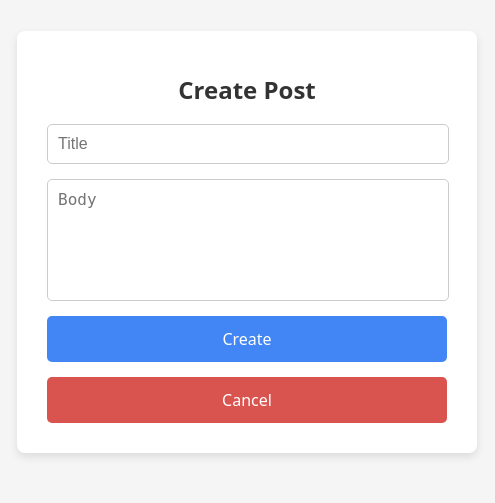
Test: CreatePost Page › shows an error message on API failure
Type "New Post" into the field with placeholder "Title" at [248, 144], box [47, 124, 449, 164]
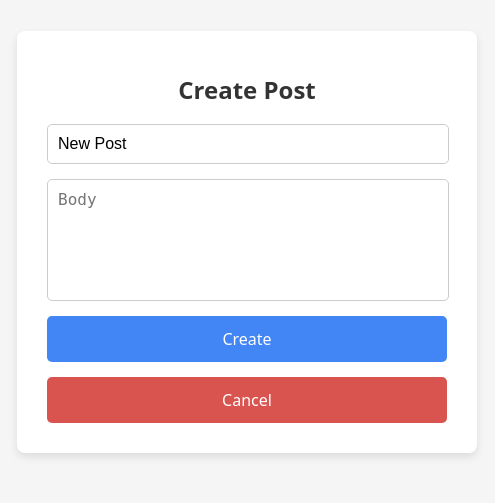
Type "Post content" into the text box with placeholder "Body" at [248, 240], box [47, 179, 449, 301]
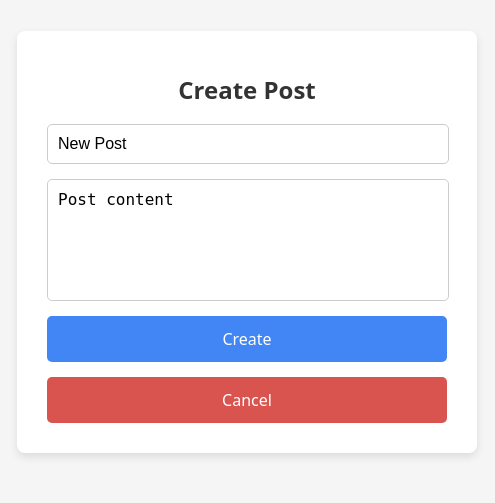
Click the button "Create" at [247, 339], box [47, 316, 447, 362]
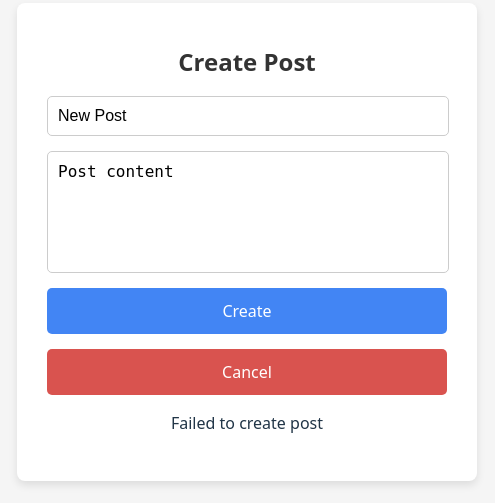
Expected: the text "Failed to create post" is shown, [171, 412, 323, 434]
